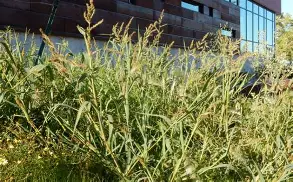weed: (0, 5, 292, 181)
